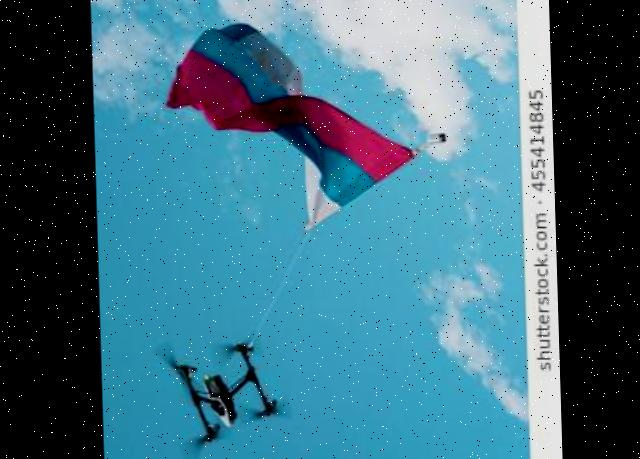drone: (141, 327, 299, 459)
